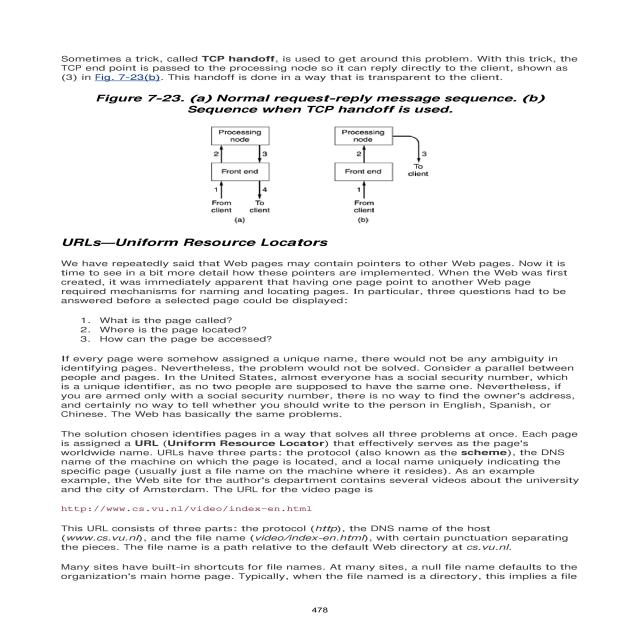diagram: (51, 86, 588, 233)
